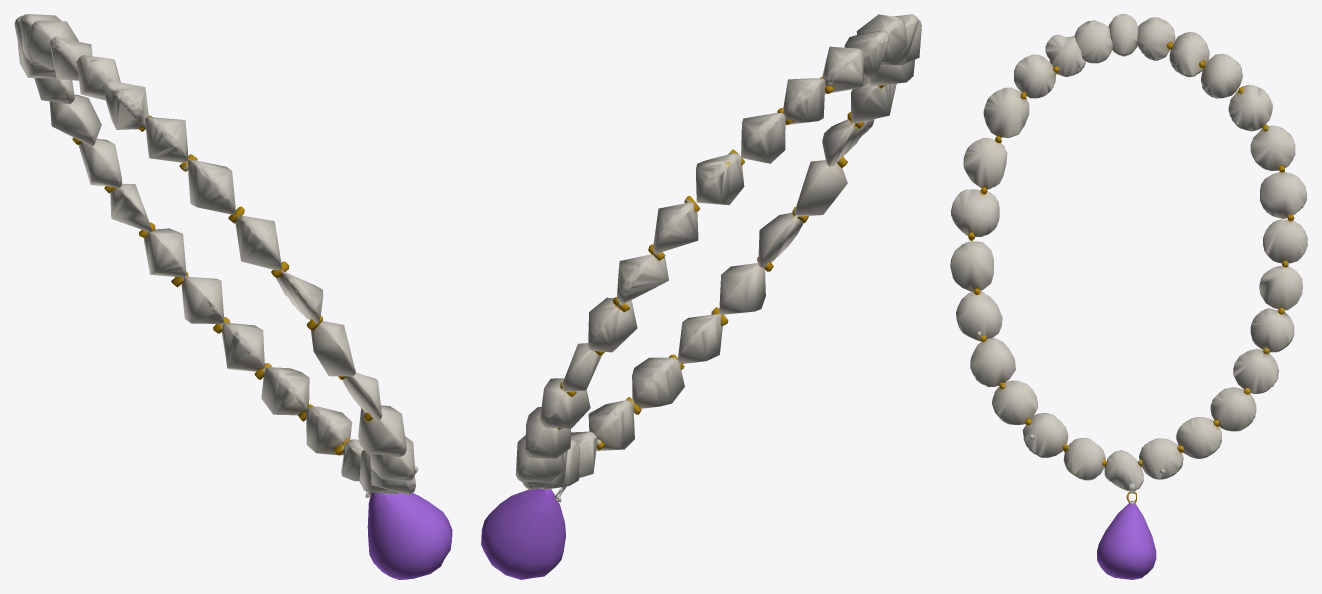
File: r33-necklace.glb
3 views of the same model, side by side, from view 1: azimuth 30°, elevation 25°; view 2: azimuth 150°, elevation 25°; view 3: azimuth 270°, elevation 25° (orthographic). The views are drawn at different scales.
Parts seen in each view (by area): view 1: tripo_node_c1b81a2a-ccbb-4446-872d-4bb514f9bd4a; view 2: tripo_node_c1b81a2a-ccbb-4446-872d-4bb514f9bd4a; view 3: tripo_node_c1b81a2a-ccbb-4446-872d-4bb514f9bd4a.
Part boxes in pixels (x1,y1,x2,y2): tripo_node_c1b81a2a-ccbb-4446-872d-4bb514f9bd4a: (14,14,452,579); tripo_node_c1b81a2a-ccbb-4446-872d-4bb514f9bd4a: (481,14,921,579); tripo_node_c1b81a2a-ccbb-4446-872d-4bb514f9bd4a: (950,14,1307,579).
Bounding box in the file's own units: 0.666 × 0.998 × 0.7324.
Materials: 1 (1 with a texture image).
